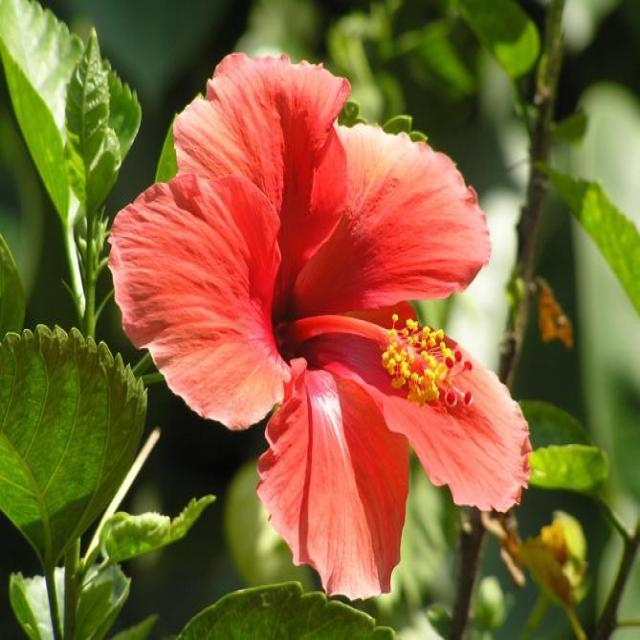hibiscus: (86, 4, 593, 624)
